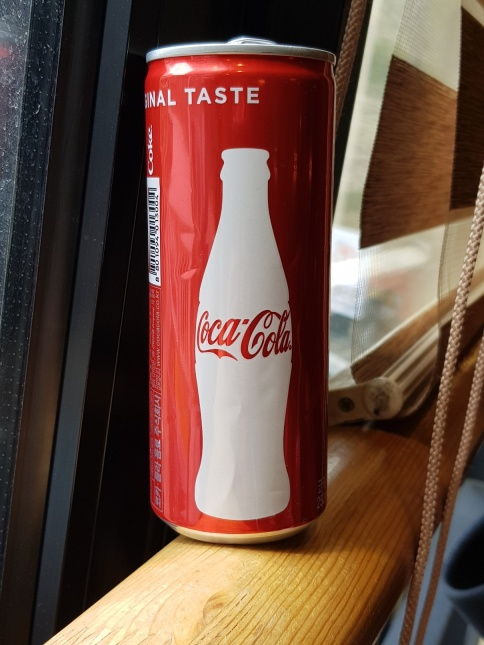Can: (139, 35, 339, 548)
